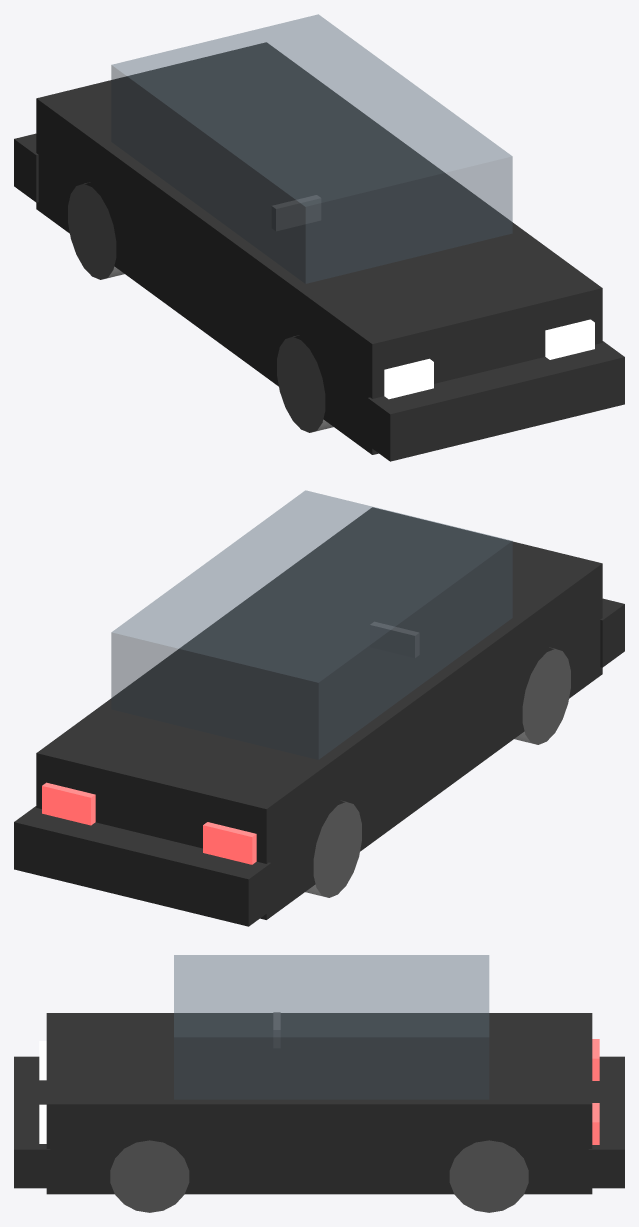
File: optra2012.glb
3 renders of one model, top to bottom at view 1: azimuth 30°, elevation 25°; view 2: azimuth 150°, elevation 25°; view 3: azimuth 270°, elevation 25°, orthographic. The views are drawn at different scales.
Parts seen in each view (by area): view 1: Body_Main, Cabin_Glass, Front_Bumper, Wheel_FL, Wheel_RL, Headlight_L, Headlight_R, Rear_Bumper, Interior_SteeringWheel; view 2: Body_Main, Cabin_Glass, Rear_Bumper, Wheel_RL, Wheel_FL, Taillight_R, Taillight_L, Front_Bumper, Interior_SteeringWheel; view 3: Body_Main, Cabin_Glass, Wheel_FR, Wheel_RR, Front_Bumper, Rear_Bumper.
Part boxes in pixels (x1,y1,x2,y2): Body_Main: [36, 42, 602, 454]; Cabin_Glass: [111, 14, 512, 283]; Front_Bumper: [368, 341, 624, 461]; Wheel_FL: [277, 335, 333, 432]; Wheel_RL: [68, 182, 124, 279]; Headlight_L: [384, 358, 433, 399]; Headlight_R: [545, 319, 594, 359]; Rear_Bumper: [14, 133, 38, 202]; Interior_SteeringWheel: [271, 195, 321, 231]; Body_Main: [36, 507, 602, 919]; Cabin_Glass: [111, 490, 512, 759]; Rear_Bumper: [14, 806, 270, 926]; Wheel_RL: [305, 800, 361, 897]; Wheel_FL: [514, 647, 570, 744]; Taillight_R: [42, 782, 95, 825]; Taillight_L: [203, 822, 256, 864]; Front_Bumper: [600, 598, 624, 667]; Interior_SteeringWheel: [370, 621, 419, 657]; Body_Main: [46, 1013, 592, 1194]; Cabin_Glass: [174, 955, 489, 1099]; Wheel_FR: [110, 1140, 189, 1212]; Wheel_RR: [449, 1140, 528, 1212]; Front_Bumper: [14, 1056, 50, 1188]; Rear_Bumper: [588, 1056, 624, 1188].
Size of the model in its own units: 1.9 by 1.53 by 5.04.
